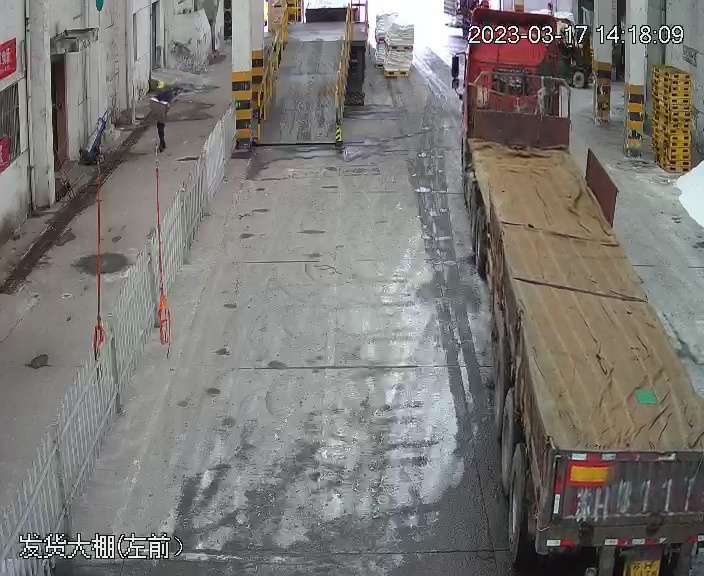head: (152, 81, 171, 106)
helmet: (156, 80, 168, 90)
people: (150, 79, 174, 155)
truck: (442, 12, 704, 572)
